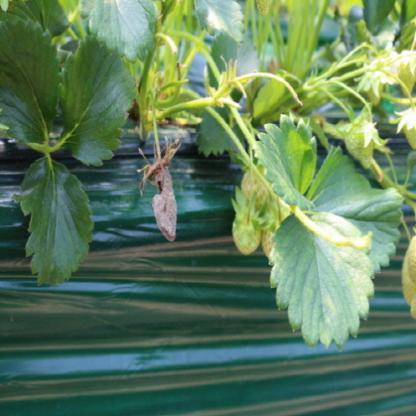Strawberry_Gray_Mold: (136, 139, 181, 243)
